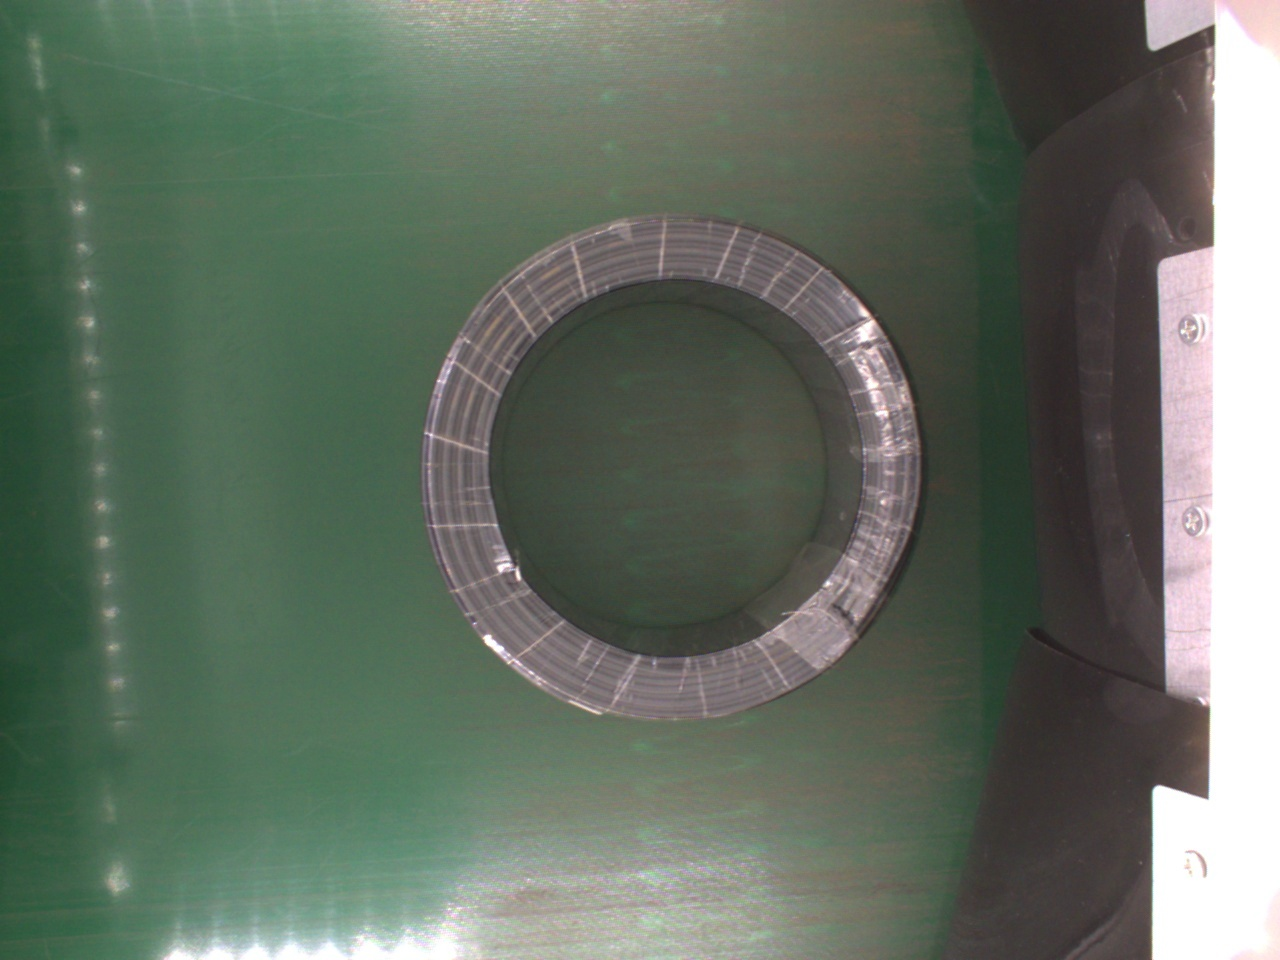black: (419, 212, 924, 732)
